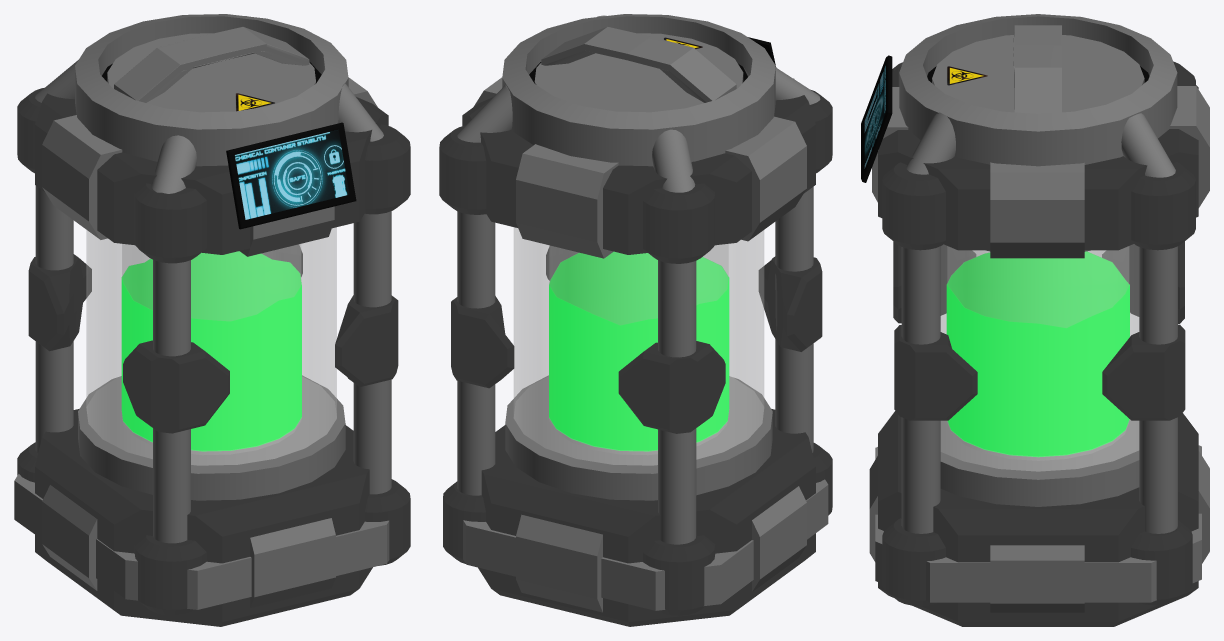
The model's file is dan.glb.
The picture shows the model from 3 angles, left to right: view 1: azimuth 30°, elevation 25°; view 2: azimuth 150°, elevation 25°; view 3: azimuth 270°, elevation 25°; orthographic projection.
Parts seen in each view (by area): view 1: pCylinder1, pCylinder22, pCube1, pPipe1, pCylinder5, pCube2, pCube13, pCylinder23, pCylinder11, pCylinder14, pCylinder20, pCube15 (+20 smaller); view 2: pCylinder1, pCylinder22, pCube1, pPipe1, pCylinder5, pCube2, pCube10, pCylinder23, pCylinder8, pCylinder20, pCylinder3, pCube16 (+18 smaller); view 3: pCylinder1, pCylinder22, pPipe1, pCube1, pCube2, pCylinder5, pCylinder23, pCylinder20, pCube9, pCylinder14, pCylinder3, pCube22 (+19 smaller).
Part boxes in pixels (left/top/right/bottom): pCylinder1: left=86, top=227, right=336, bottom=465; pCylinder22: left=121, top=251, right=301, bottom=451; pCube1: left=35, top=409, right=372, bottom=626; pPipe1: left=75, top=14, right=348, bottom=166; pCylinder5: left=78, top=375, right=345, bottom=500; pCube2: left=35, top=93, right=388, bottom=254; pCube13: left=226, top=122, right=356, bottom=229; pCylinder23: left=122, top=244, right=300, bottom=320; pCylinder11: left=153, top=260, right=190, bottom=543; pCylinder14: left=353, top=211, right=391, bottom=494; pCylinder20: left=107, top=33, right=315, bottom=112; pCube15: left=123, top=340, right=229, bottom=433; pCylinder1: left=514, top=227, right=763, bottom=465; pCylinder22: left=549, top=251, right=729, bottom=451; pCube1: left=478, top=409, right=815, bottom=626; pPipe1: left=502, top=14, right=775, bottom=166; pCylinder5: left=505, top=375, right=772, bottom=500; pCube2: left=462, top=78, right=815, bottom=254; pCube10: left=516, top=144, right=618, bottom=258; pCylinder23: left=549, top=244, right=728, bottom=324; pCylinder8: left=658, top=260, right=696, bottom=544; pCylinder20: left=534, top=33, right=743, bottom=112; pCylinder3: left=457, top=211, right=495, bottom=495; pCube16: left=618, top=341, right=725, bottom=433; pCylinder1: left=941, top=244, right=1138, bottom=471; pCylinder22: left=946, top=251, right=1129, bottom=457; pPipe1: left=899, top=14, right=1177, bottom=166; pCube1: left=878, top=411, right=1198, bottom=626; pCube2: left=878, top=66, right=1198, bottom=250; pCylinder5: left=940, top=419, right=1139, bottom=506; pCylinder23: left=947, top=246, right=1128, bottom=327; pCylinder20: left=932, top=35, right=1144, bottom=112; pCube9: left=990, top=162, right=1084, bottom=258; pCylinder14: left=901, top=246, right=940, bottom=533; pCylinder3: left=1139, top=246, right=1177, bottom=533; pCube22: left=990, top=545, right=1084, bottom=612.
Bounding box in the file's own units: 2.65 × 4.48 × 2.73.
7 materials, 2 textured.
